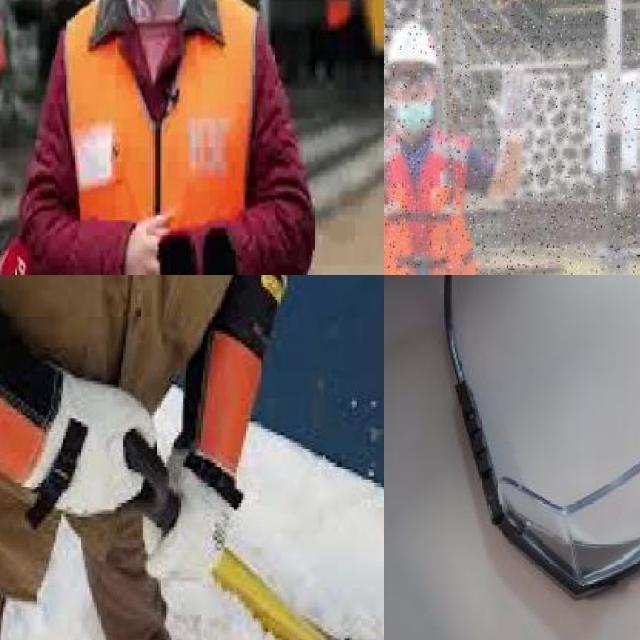apron: (0, 275, 163, 535), (149, 338, 260, 586), (491, 62, 539, 141)
